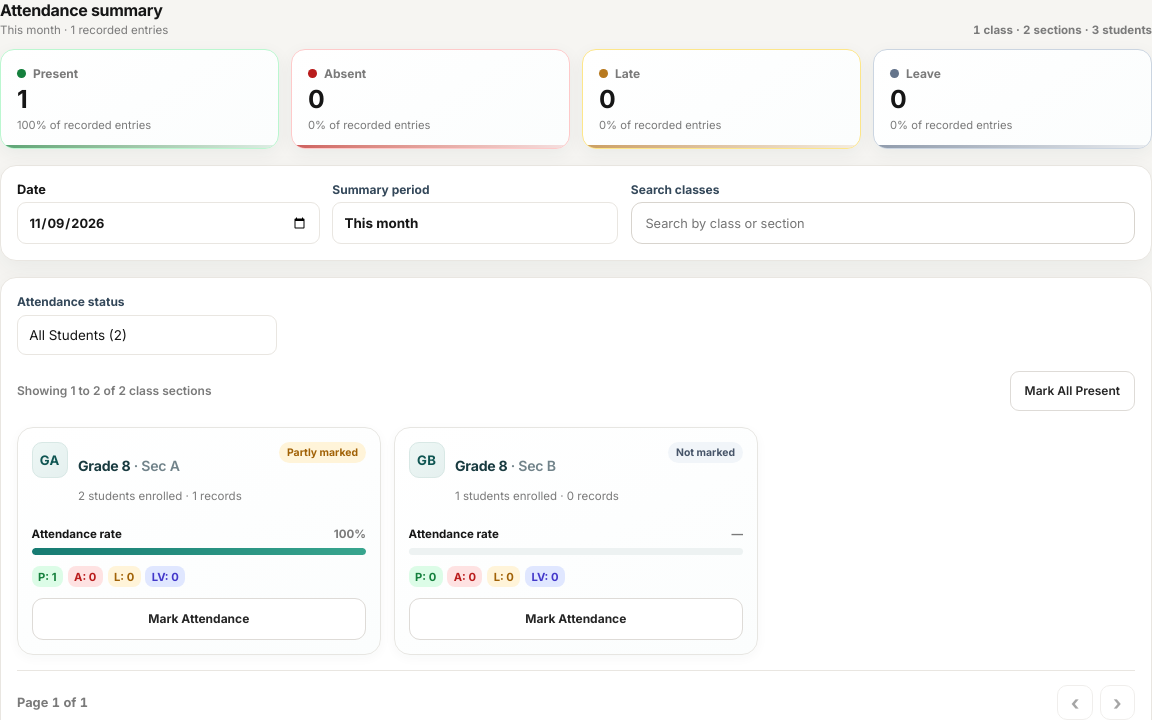
AttendanceClassesOverview › bulk marks each class roster present and refreshes attendance data
Click the button "Mark All Present": (1072, 391) [1010,371,1135,411]
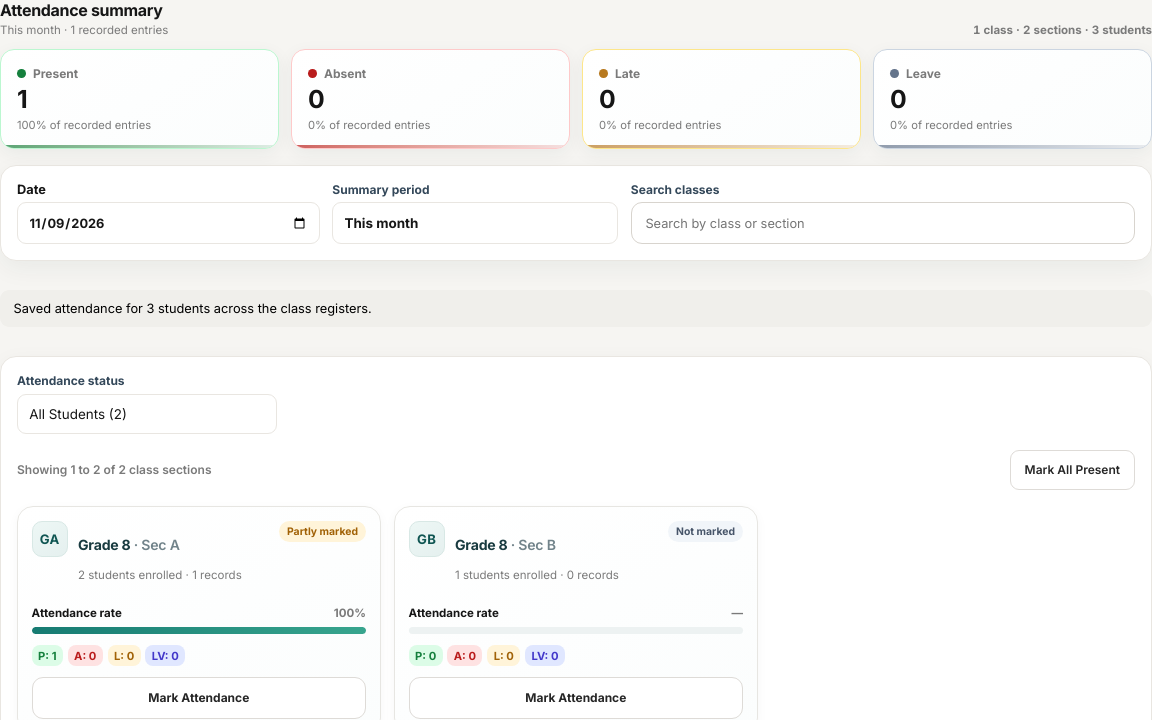
Expected: the message shows "Saved attendance for 3 students", [14,301,372,316]
